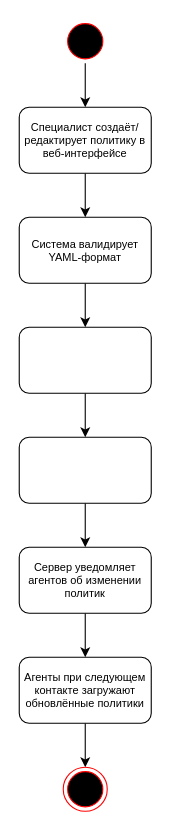
The diagram is 171 pixels wide and 831 high, and some of its shapes have lost their labels. Each missing label, with the box of its shape:
Назначает политику группам серверов: (18, 436, 151, 503)
Сохраняет новую версию политики в БД: (18, 326, 151, 393)
